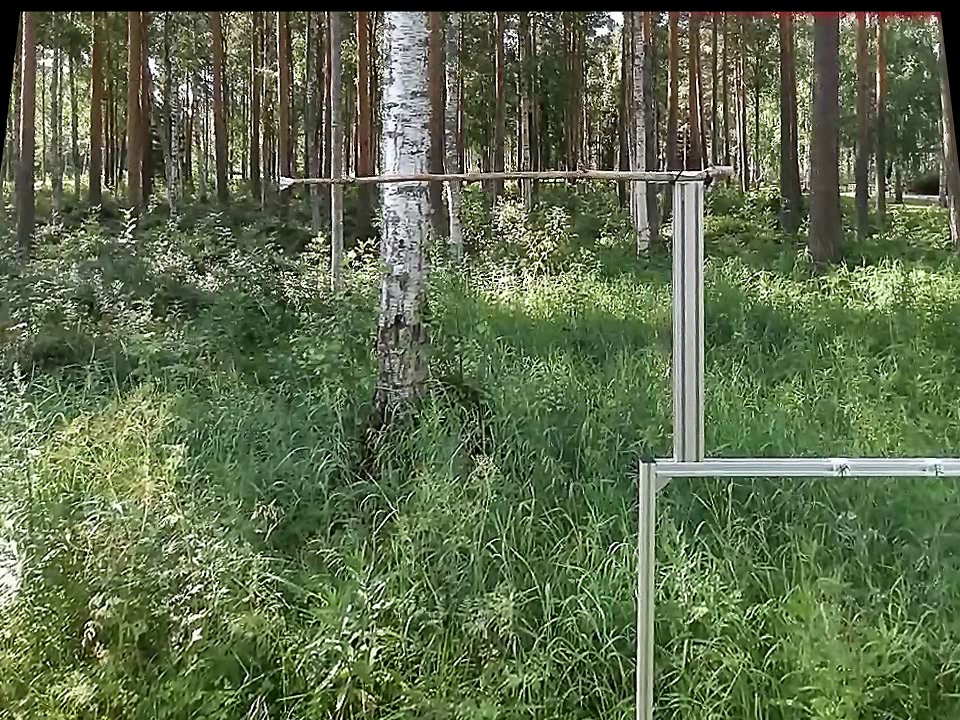aluminum_frame: (668, 182, 710, 456), (655, 448, 958, 483), (631, 450, 659, 718)
branch: (298, 163, 668, 200)
